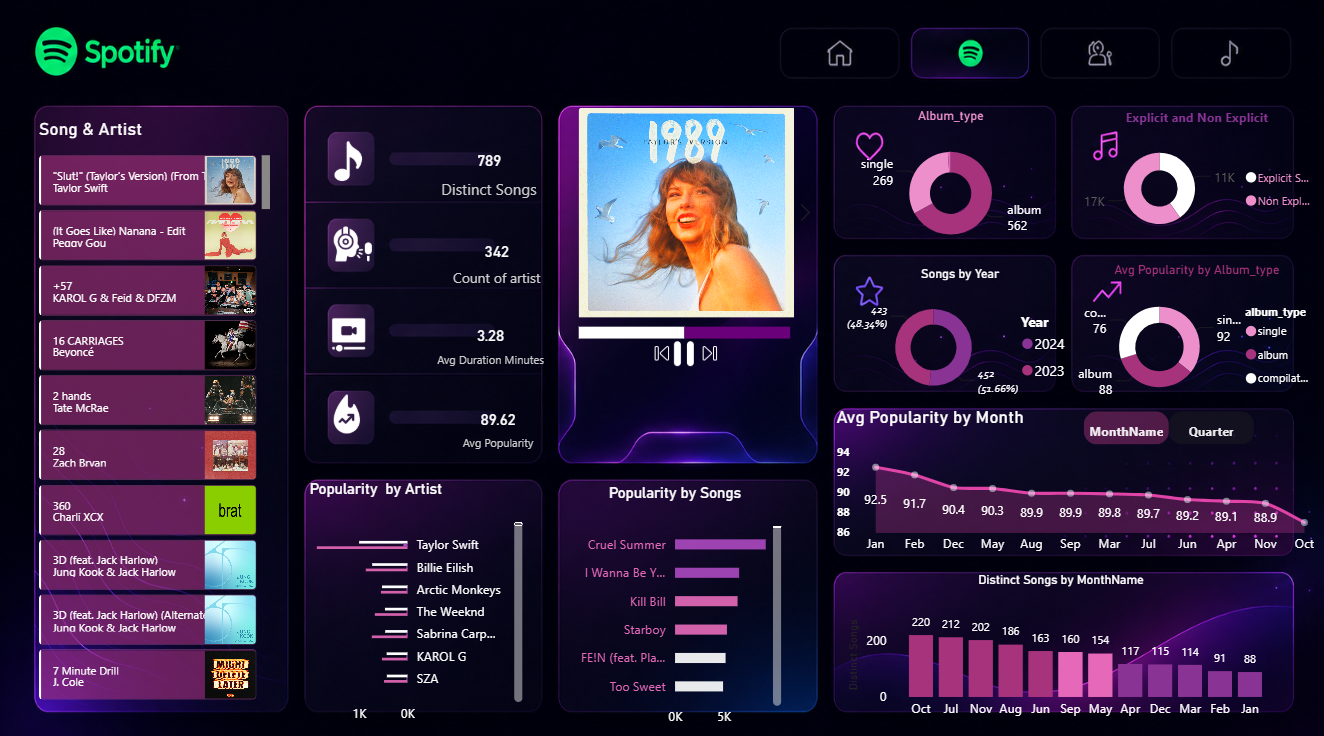

What the dashboard file says about the page in this screenshot:
{"tool":"powerbi","page":{"name":"Spotify","canvas":[1280,720],"ordinal":0},"visuals":[{"type":"clusteredBarChart","title":"Popularity  by Artist","fields":{"Y":["-Measures.Songs Popularity 90+","-Measures.Distinct Songs","-Measures.Songs per Artist"],"Category":["Top-50-World.artist"]},"box":[297.5,463.3,221.5,239.2],"z":0},{"type":"stackedAreaChart","title":"Avg Popularity by Month","fields":{"Category":["Top-50-World.MonthName"],"Y":["_Measures.Avg Popularity"]},"box":[802.8,391.5,476.9,151.3],"z":1000},{"type":"advancedSlicerVisual","fields":{"Values":["Slicer_Option.Slicer_Option"]},"box":[1041,392.3,174,42],"z":2000},{"type":"donutChart","title":" Album_type","fields":{"Y":["_Measures.Distinct Songs"],"Category":["Top-50-World.album_type"]},"box":[811.9,105,211.5,138.5],"z":3000},{"type":"donutChart","title":"Explicit and Non Explicit","fields":{"Y":["_Measures.Explicit Songs","_Measures.Non Explicit Songs"]},"box":[1032.1,105.1,247.4,126.9],"z":4000},{"type":"donutChart","title":"Songs by Year","fields":{"Category":["Top-50-World.Year"],"Y":["_Measures.Distinct Songs"]},"box":[811.5,256.4,229.5,132.1],"z":5000},{"type":"donutChart","title":"Avg Popularity by Album_type","fields":{"Category":["Top-50-World.album_type"],"Y":["_Measures.Avg Popularity"]},"box":[1032.1,253.8,247.4,138.5],"z":6000},{"type":"clusteredColumnChart","fields":{"Category":["Top-50-World.MonthName"],"Y":["_Measures.Distinct Songs"]},"box":[812.7,552.1,421.8,150],"z":7000},{"type":"card","fields":{"Values":["_Measures.Distinct Songs"]},"box":[392.3,130.8,160.3,71.8],"z":9000},{"type":"card","fields":{"Values":["Count(Top-50-World.artist)"]},"box":[406.4,212.8,146.2,80.8],"z":10000},{"type":"card","fields":{"Values":["_Measures.Avg Duration Minutes"]},"box":[400,292.3,146.2,80.8],"z":11000},{"type":"card","fields":{"Values":["_Measures.Avg Popularity"]},"box":[407.7,373.1,146.2,80.8],"z":12000},{"type":"image","box":[321.8,202.6,37.2,65.4],"z":13000},{"type":"image","box":[321.8,373.1,37.2,53.8],"z":14000},{"type":"image","box":[315.4,303.8,43.6,38.5],"z":15000},{"type":"image","box":[316.7,135.9,39.7,38.5],"z":16000},{"type":"advancedSlicerVisual","title":"Song & Artist","fields":{"Values":["Top-50-World.song"]},"box":[32.4,114.1,233.3,571.8],"z":17000},{"type":"clusteredBarChart","title":"Popularity by Songs","fields":{"Y":["Sum(Top-50-World.total_tracks)"],"Category":["Top-50-World.song"]},"box":[547.7,466.9,221.5,239.2],"z":18000},{"type":"advancedSlicerVisual","title":"Song & Artist","fields":{"Values":["Top-50-World.song"]},"box":[532.4,97.2,260.6,215.5],"z":19000},{"type":"hundredPercentStackedBarChart","fields":{"Y":["_Measures.Avg Popularity","Avg(Top-50-World.popularity)"]},"box":[553.5,287.3,214,61],"z":20000},{"type":"image","box":[659.2,332.4,53.5,16],"z":21000},{"type":"image","box":[593,332.4,93,16],"z":22000},{"type":"image","box":[608.5,329.6,104.2,23.9],"z":24000},{"type":"shape","box":[528.4,97.7,270.4,356.3],"z":25000}]}

Visuals, with their boxes in screenshot pixels (x1, y1, x2, y2), scaled from the page's 1280x720 canvas onto the 1324x736 screenshot:
"Popularity  by Artist" clusteredBarChart: locate(308, 474, 537, 718)
"Avg Popularity by Month" stackedAreaChart: locate(830, 400, 1323, 555)
advancedSlicerVisual - Slicer_Option.Slicer_Option: locate(1077, 401, 1257, 444)
" Album_type" donutChart: locate(840, 107, 1059, 249)
"Explicit and Non Explicit" donutChart: locate(1068, 107, 1323, 237)
"Songs by Year" donutChart: locate(839, 262, 1077, 397)
"Avg Popularity by Album_type" donutChart: locate(1068, 259, 1323, 401)
clusteredColumnChart - Top-50-World.MonthName x _Measures.Distinct Songs: locate(841, 564, 1277, 718)
card - _Measures.Distinct Songs: locate(406, 134, 572, 207)
card - Count(Top-50-World.artist): locate(420, 218, 572, 300)
card - _Measures.Avg Duration Minutes: locate(414, 299, 565, 381)
card - _Measures.Avg Popularity: locate(422, 381, 573, 464)
image: locate(333, 207, 371, 274)
image: locate(333, 381, 371, 436)
image: locate(326, 311, 371, 350)
image: locate(328, 139, 369, 178)
"Song & Artist" advancedSlicerVisual: locate(34, 117, 275, 701)
"Popularity by Songs" clusteredBarChart: locate(567, 477, 796, 722)
"Song & Artist" advancedSlicerVisual: locate(551, 99, 820, 320)
hundredPercentStackedBarChart - _Measures.Avg Popularity x Avg(Top-50-World.popularity): locate(573, 294, 794, 356)
image: locate(682, 340, 737, 356)
image: locate(613, 340, 710, 356)
image: locate(629, 337, 737, 361)
shape: locate(547, 100, 826, 464)
